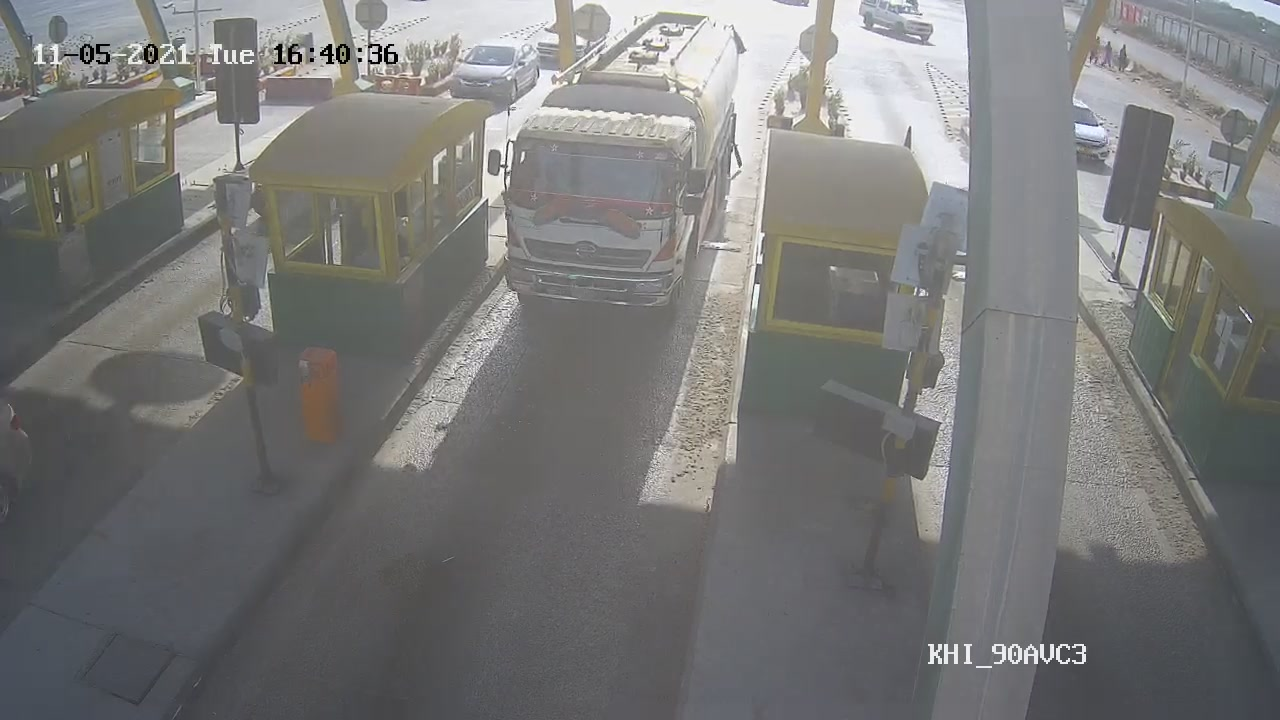F6: (500, 9, 742, 323)
